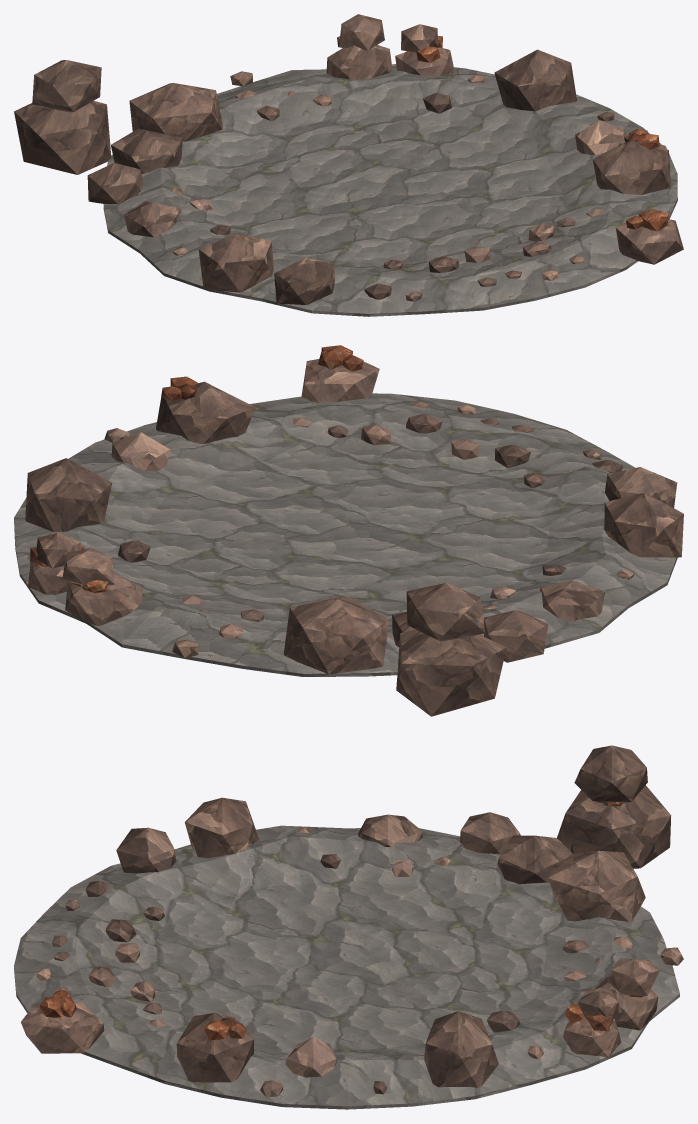
The model's file is rubble_ore.glb.
The picture shows the model from 3 angles, top to bottom: view 1: azimuth 30°, elevation 25°; view 2: azimuth 150°, elevation 25°; view 3: azimuth 270°, elevation 25°; orthographic projection. The views are drawn at different scales.
Parts seen in each view (by area): view 1: model; view 2: model; view 3: model.
Boxes of the visible parts, x1,y1,x2,y2 form: model: (14, 14, 683, 316); model: (14, 345, 683, 716); model: (14, 745, 683, 1109).
Bounding box in the file's own units: 1.88 × 0.3445 × 1.9.
Materials: 7 (7 with a texture image).
